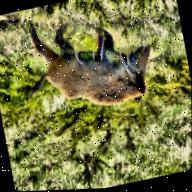boar: (16, 10, 172, 132)
